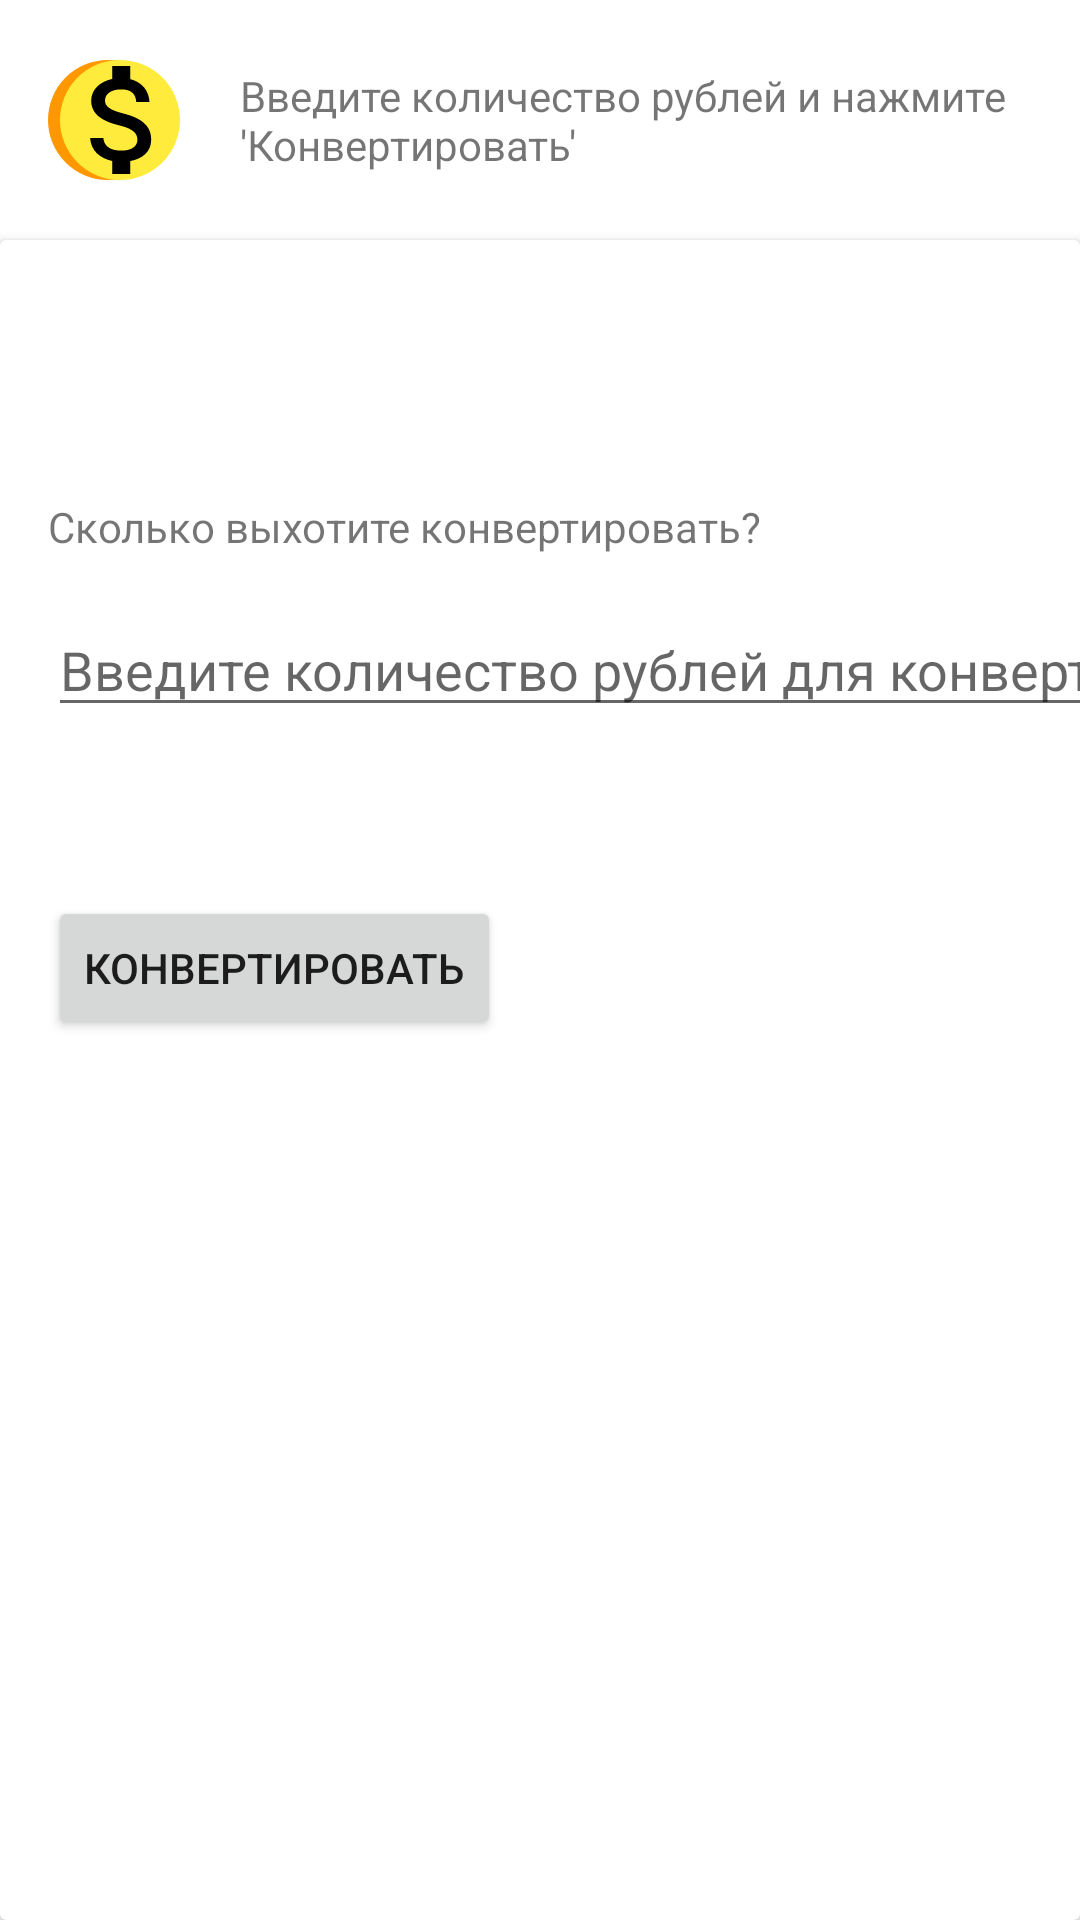

Screen size 1080×1920. Icon name, then its center in pixels as (x,y):
Иконка монетки: (114,120)
